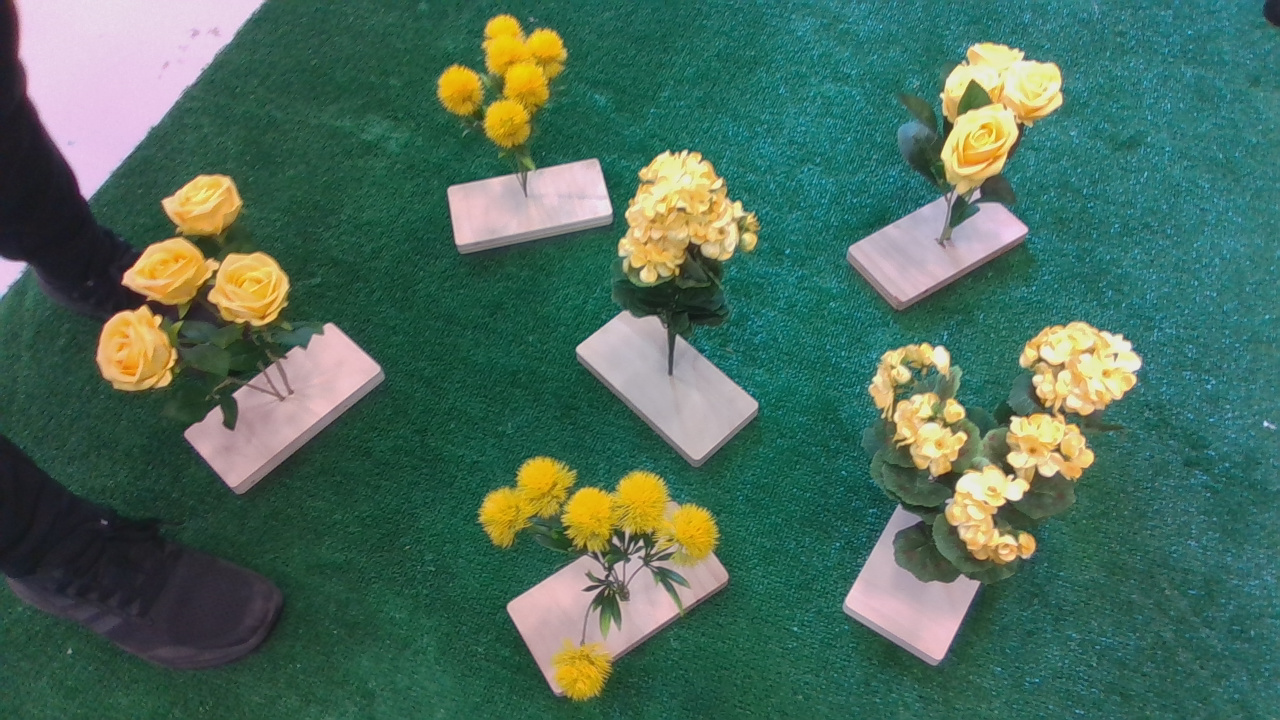dandelion: (469, 462, 726, 712), (429, 15, 584, 173)
geranium: (835, 329, 1152, 585), (608, 149, 772, 334)
rose: (99, 172, 328, 409), (883, 43, 1078, 241)
